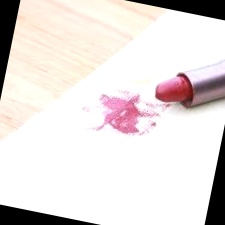lipstick: (75, 83, 172, 149)
